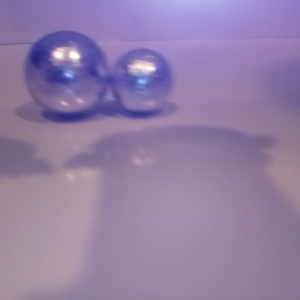alive_ball: (113, 19, 174, 85), (239, 17, 273, 55)
dead_ball: (111, 13, 154, 56), (204, 19, 237, 54)
